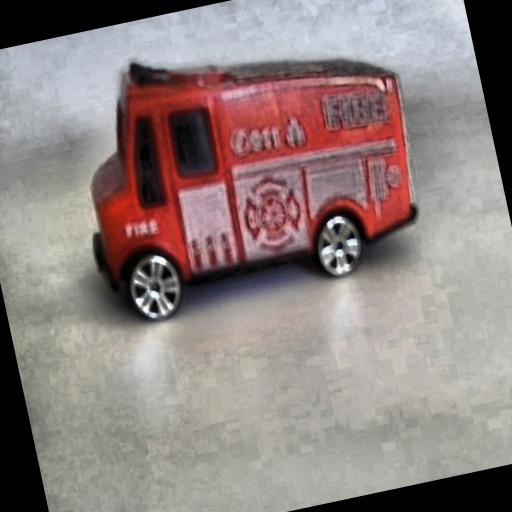fire_truck: (65, 40, 430, 317)
